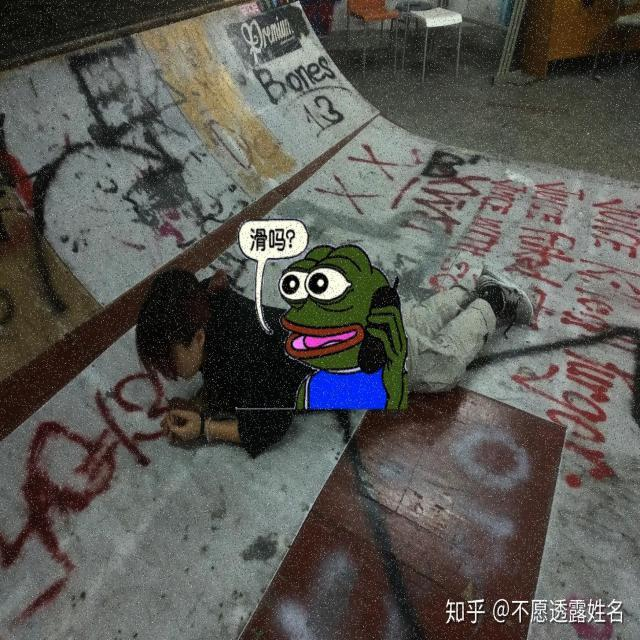fall: (130, 261, 517, 428)
